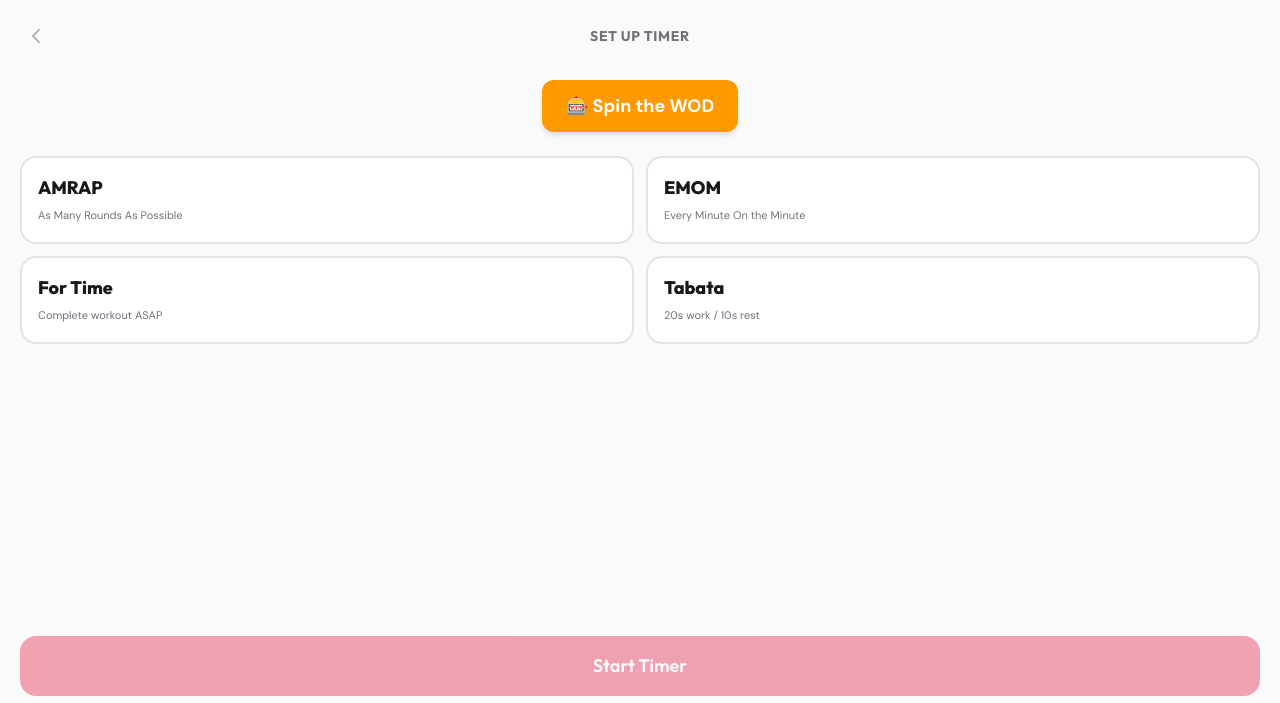
Test case: TimerSetup – WodSpinner integration › shows generated WOD card after spinning
Click the button "🎰 Spin the WOD".
click(640, 106)  # box [542,80,738,132]
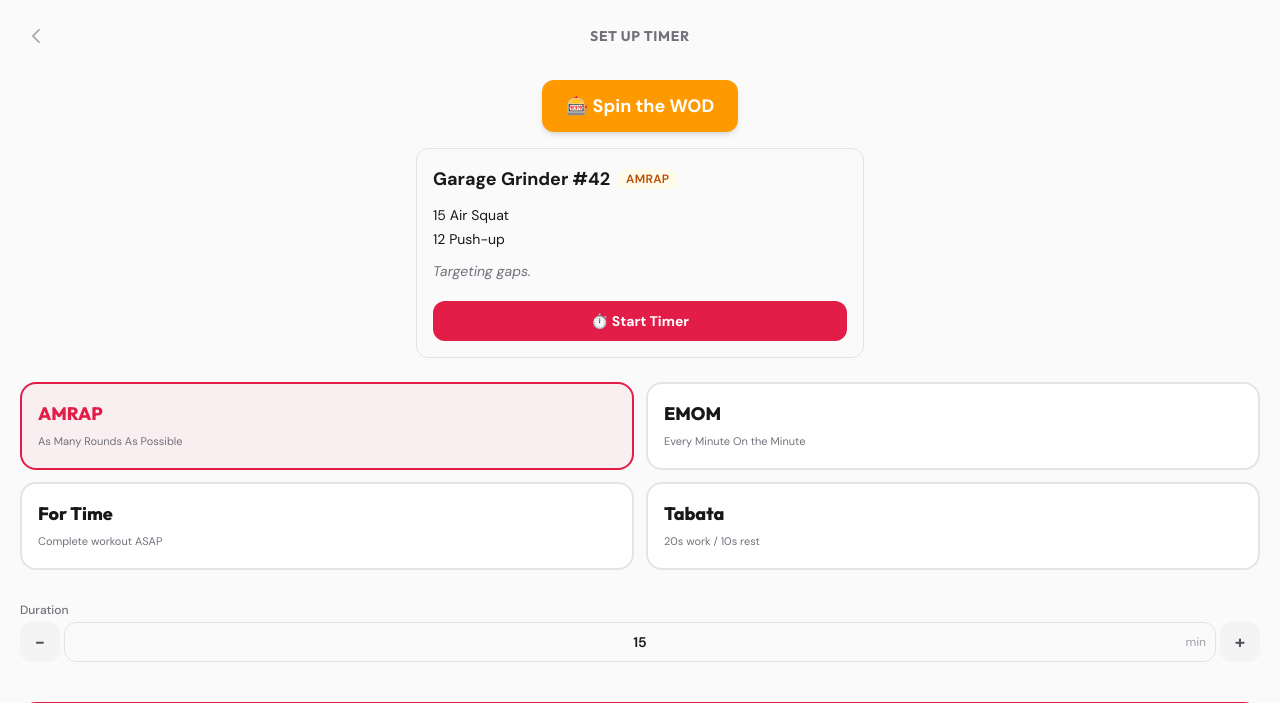
Check: the heading "Garage Grinder #42" is shown, box [433,165,610,193]
